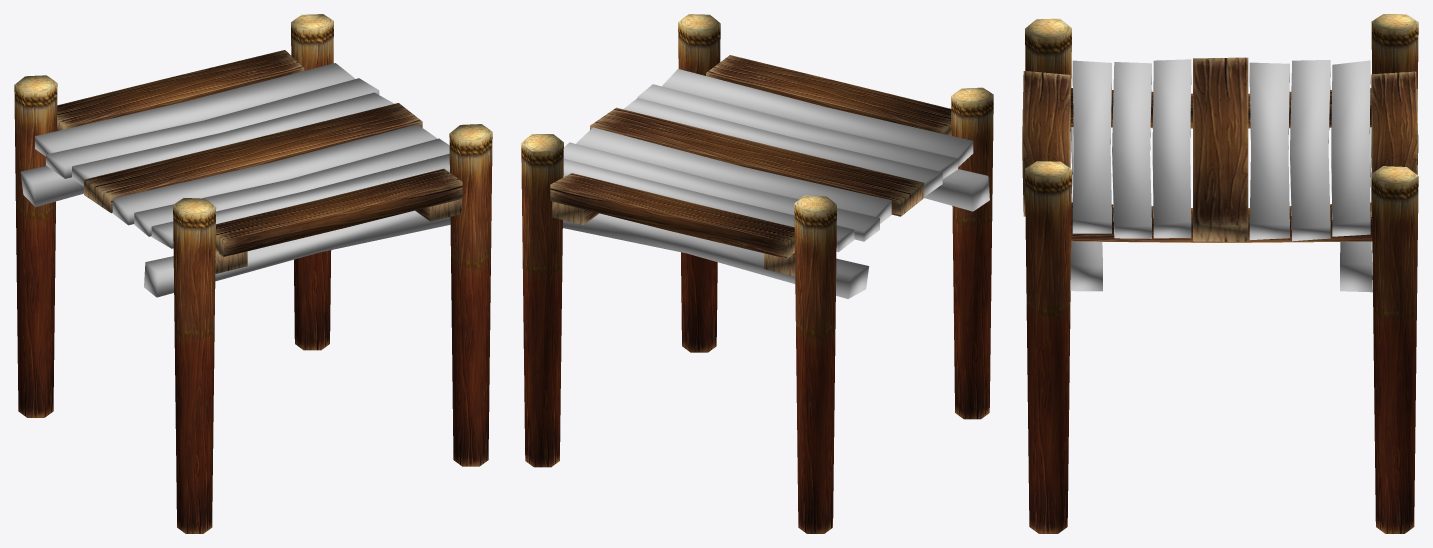
The model's file is redridgedocks02.obj.
The picture shows the model from 3 angles, left to right: view 1: azimuth 30°, elevation 25°; view 2: azimuth 150°, elevation 25°; view 3: azimuth 270°, elevation 25°; orthographic projection. The views are drawn at different scales.
Parts seen in each view (by area): view 1: RedRidgeDocks02; view 2: RedRidgeDocks02; view 3: RedRidgeDocks02.
Part boxes in pixels (x1,y1,x2,y2): RedRidgeDocks02: (14, 14, 492, 533); RedRidgeDocks02: (521, 14, 993, 533); RedRidgeDocks02: (1022, 14, 1418, 533).
Bounding box in the file's own units: 20.47 × 19.19 × 19.21.
